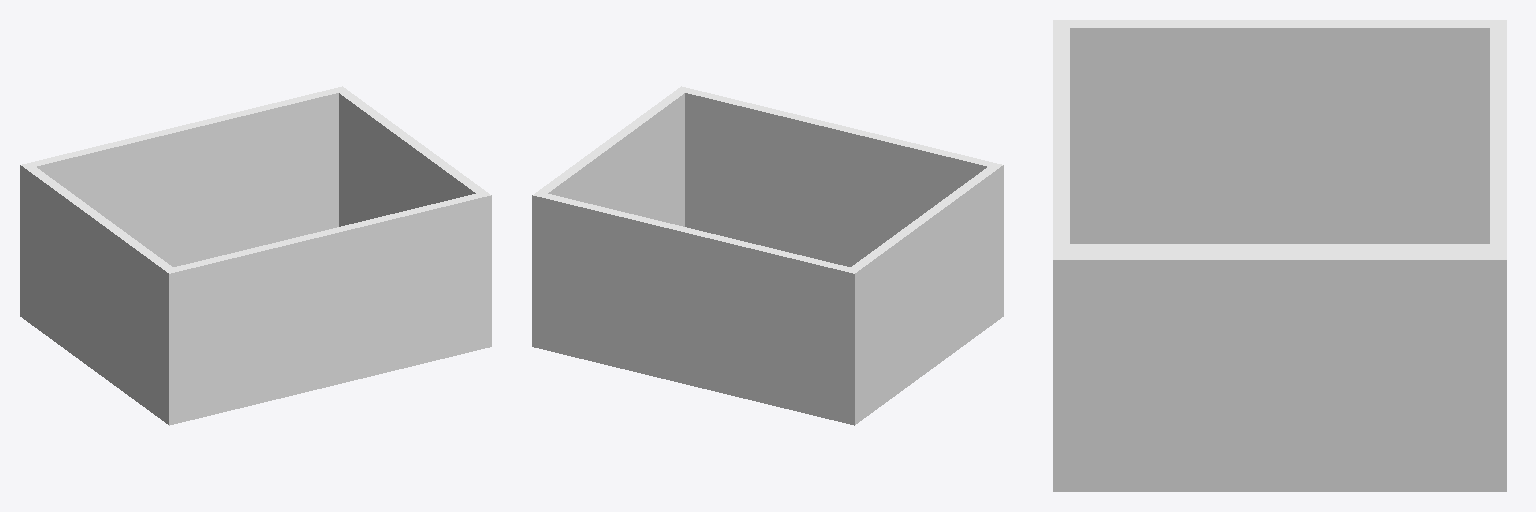
robot.urdf — bin:
<?xml version="1.0" ?>
<robot name="bin">
    <link concave="yes" name="baseLink">
        
        <inertial>
            <origin rpy="0 0 0" xyz="0 0 0"/>
            <mass value="1.0"/>
            <inertia ixx="1" ixy="0" ixz="0" iyy="1" iyz="0" izz="1"/>
        </inertial>
        
        <visual>
            <origin rpy="0 0 0" xyz="0 0 0"/>
            <geometry>
                <mesh filename="bin.obj" scale="0.001 0.001 0.001"/>
            </geometry>
            
            <material name="white">
                <color rgba="1 1 1 1"/>
            </material>
        </visual>
        
        <collision concave="yes">
            <origin rpy="0 0 0" xyz="0 0 0"/>
            <geometry>
                <mesh filename="bin.obj" scale="0.001 0.001 0.001"/>
            </geometry>
        </collision>
    </link>
</robot>

--- Facts derived from the render (not from the file) ---
3 views of the same robot in one strip: view 1: azimuth 30°, elevation 25°; view 2: azimuth 150°, elevation 25°; view 3: azimuth 270°, elevation 25° (orthographic).
Model bin with 1 links and 0 joints (none), rooted at baseLink, posed all joints at 0.
Links seen in each view (by area): view 1: baseLink; view 2: baseLink; view 3: baseLink.
Link boxes in pixels (bbox=[...]): baseLink: bbox=[20, 86, 491, 425]; baseLink: bbox=[532, 86, 1003, 425]; baseLink: bbox=[1053, 20, 1506, 491].
Size in the robot's own frame: 1 by 0.8 by 0.45 metres.
Meshes: 1 distinct files referenced, 1 mesh visuals loaded (1 OBJ).